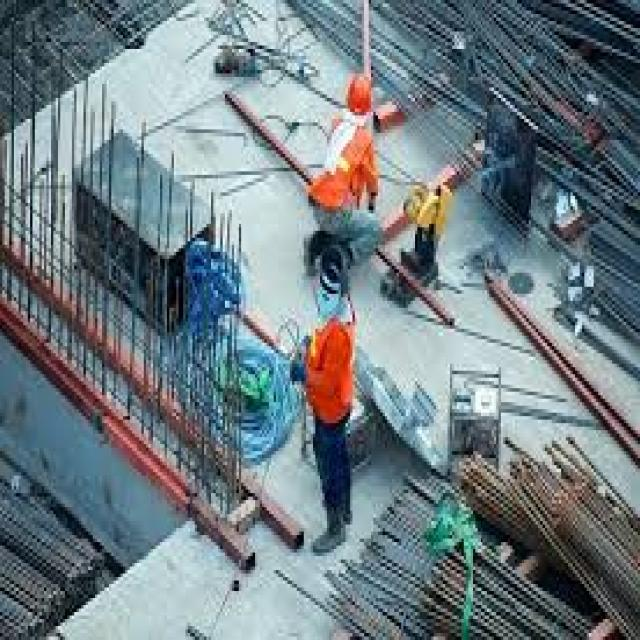Reflective-Jacket: (306, 119, 383, 234), (297, 311, 364, 437)
Safety-Helmet: (339, 66, 378, 122)
